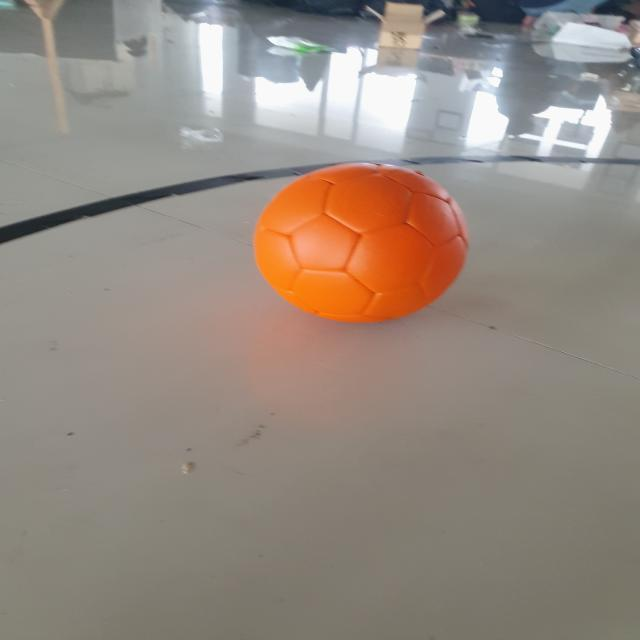bola: (247, 158, 475, 332)
